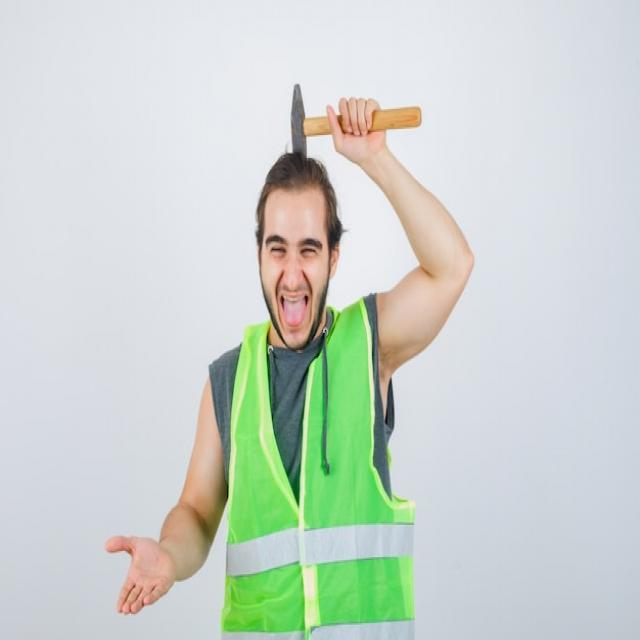hammer: (280, 74, 437, 159)
